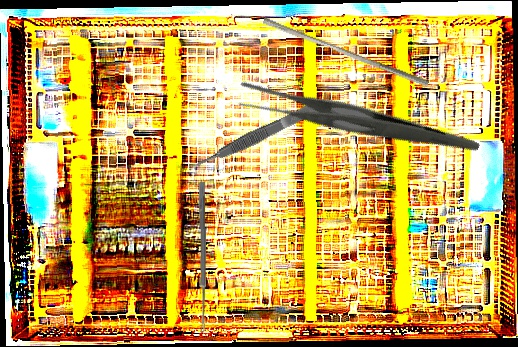Dressing Forceps: (230, 22, 481, 223)
Pusher: (260, 16, 432, 88)
Surgical Spoon: (197, 181, 208, 334)
Tissue Forceps: (193, 96, 330, 171)
